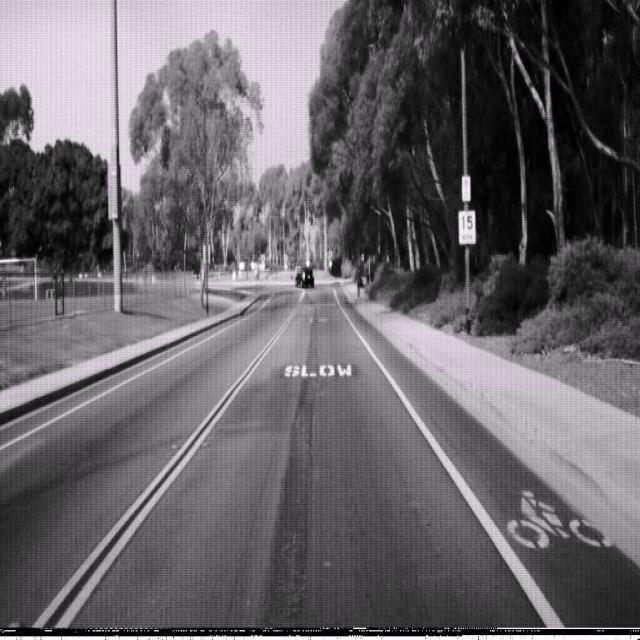speedLimit15: (458, 208, 477, 244)
